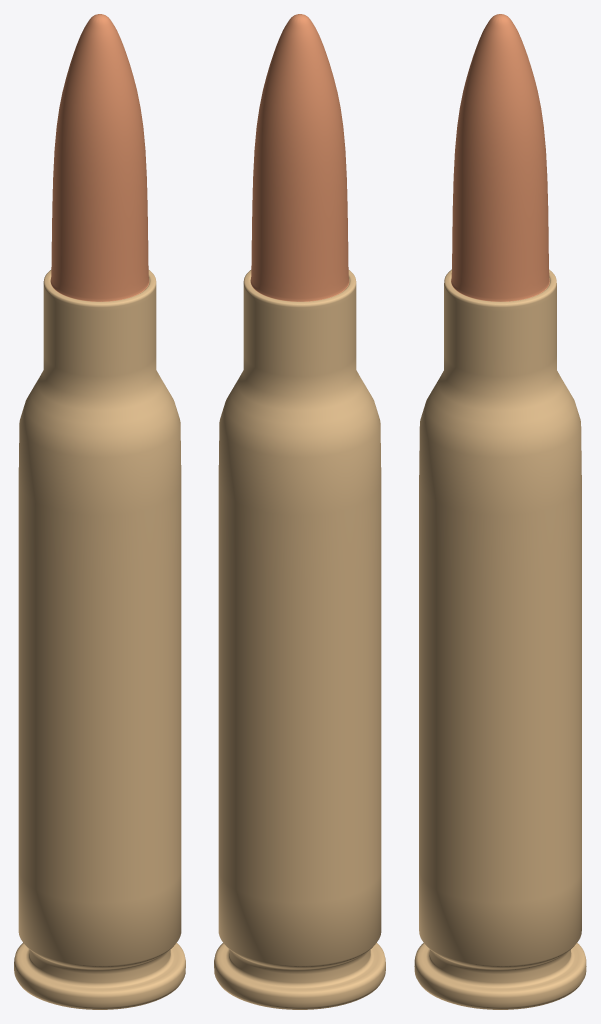
Rendered from Bullet.fbx.
3 views of the same model, side by side, from view 1: azimuth 30°, elevation 25°; view 2: azimuth 150°, elevation 25°; view 3: azimuth 270°, elevation 25° (orthographic).
Visible parts, largest first — view 1: Pocisk 1; view 2: Pocisk 1; view 3: Pocisk 1.
Boxes of the visible parts, x1=… form: Pocisk 1: x1=14, y1=14, x2=185, y2=1009; Pocisk 1: x1=214, y1=14, x2=385, y2=1009; Pocisk 1: x1=414, y1=14, x2=586, y2=1009.
Size of the model in its own units: 32.56 by 201 by 32.56.
